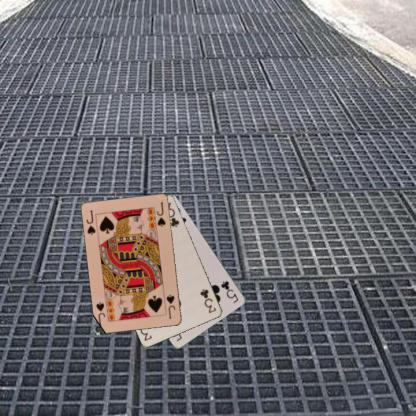3c: (198, 287, 217, 314)
5c: (218, 278, 240, 304)
Js: (164, 292, 177, 320), (84, 208, 97, 236)
